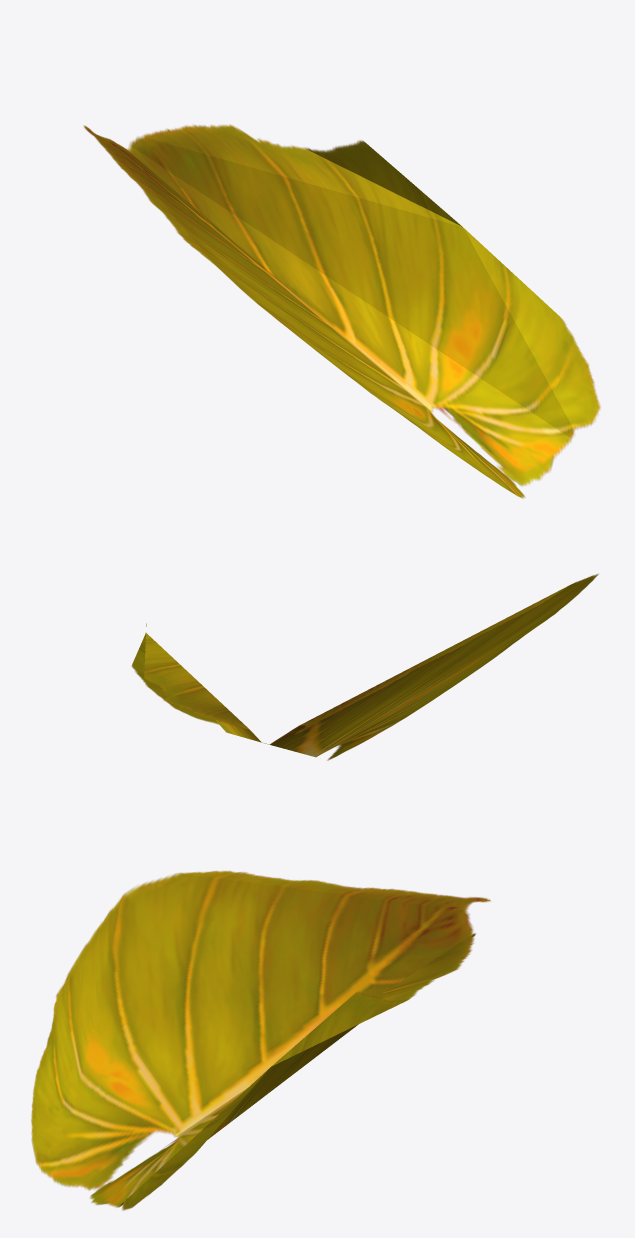
Rendered from BSPlant_2_Leaf_3.gltf.
3 views of the same model, one above another, from view 1: azimuth 30°, elevation 25°; view 2: azimuth 150°, elevation 25°; view 3: azimuth 270°, elevation 25° (orthographic). The views are drawn at different scales.
Parts seen in each view (by area): view 1: BSPlant_2_Leaf_3; view 2: BSPlant_2_Leaf_3; view 3: BSPlant_2_Leaf_3.
Part boxes in pixels (x1,y1,x2,y2): BSPlant_2_Leaf_3: (83, 124, 600, 498); BSPlant_2_Leaf_3: (131, 574, 598, 760); BSPlant_2_Leaf_3: (31, 871, 490, 1210).
Size of the model in its own units: 1.48 by 1.06 by 2.
Materials: 1 (1 with a texture image).
